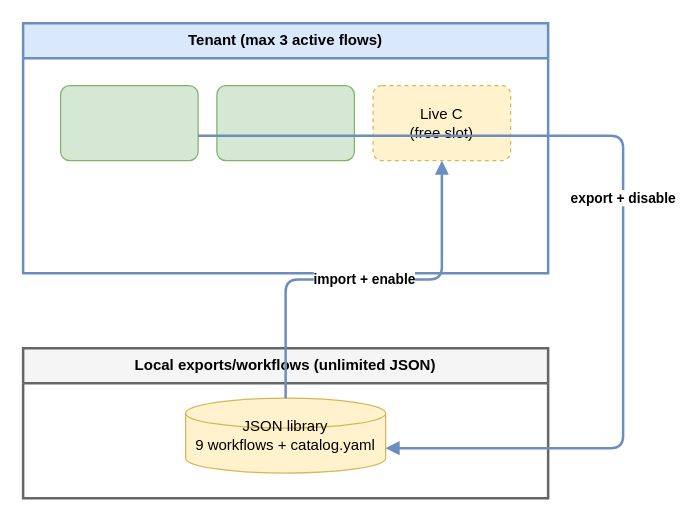
Image size: 696x520. Some labels were removed from this diagram. The shapes that lost their labels are listed below. From the top down, each one's centre as x and y in pixels, then its label:
pixel 128 122: Live A alert-triage
pixel 285 122: Live B alert-triage-advanced
